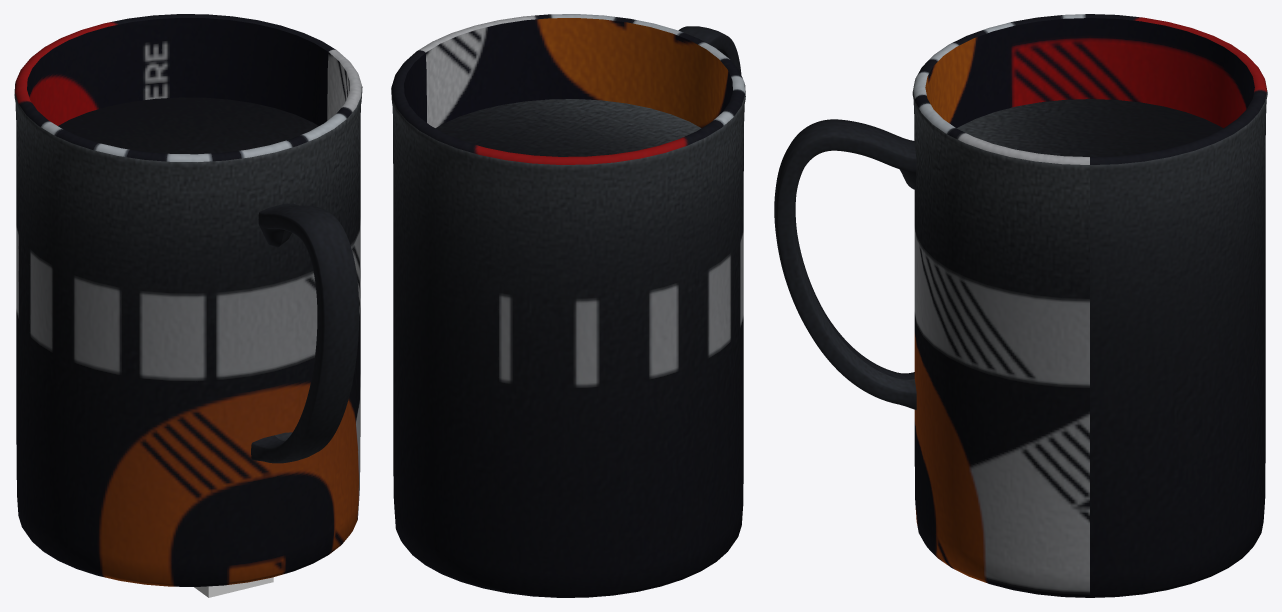
File: mug.glb
3 renders of one model, left to right at view 1: azimuth 30°, elevation 25°; view 2: azimuth 150°, elevation 25°; view 3: azimuth 270°, elevation 25°, orthographic.
Parts seen in each view (by area): view 1: CoffeeMug, Cube; view 2: CoffeeMug; view 3: CoffeeMug.
Part boxes in pixels (x1=…): CoffeeMug: x1=14, y1=14, x2=362, y2=586; Cube: x1=194, y1=577, x2=273, y2=597; CoffeeMug: x1=391, y1=14, x2=745, y2=597; CoffeeMug: x1=774, y1=14, x2=1267, y2=597.
Bounding box in the file's own units: 9.3 × 13.73 × 12.92.
Materials: 2 (1 with a texture image).
